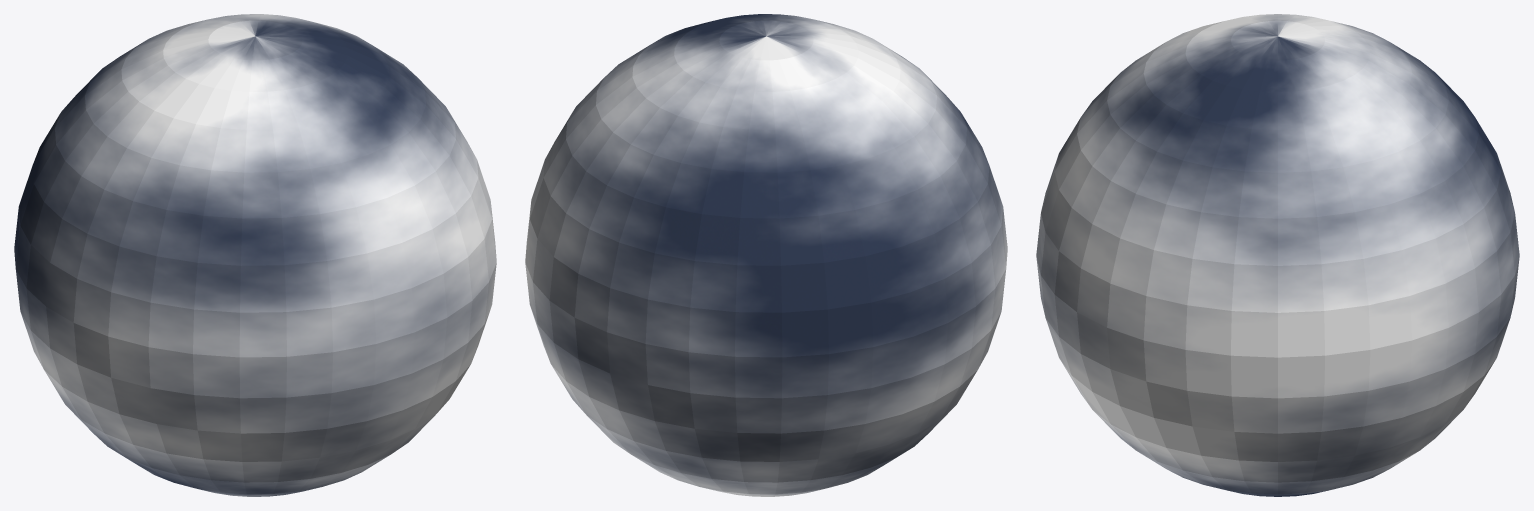
The model's file is stage02.glb.
3 views of the same model, side by side, from view 1: azimuth 30°, elevation 25°; view 2: azimuth 150°, elevation 25°; view 3: azimuth 270°, elevation 25° (orthographic).
Visible parts, largest first — view 1: Sphere; view 2: Sphere; view 3: Sphere.
Boxes of the visible parts, bbox=[...] form: Sphere: bbox=[14, 14, 496, 496]; Sphere: bbox=[525, 14, 1007, 496]; Sphere: bbox=[1036, 14, 1519, 496].
Size of the model in its own units: 500 by 500 by 500.
Materials: 9 (2 with a texture image).
